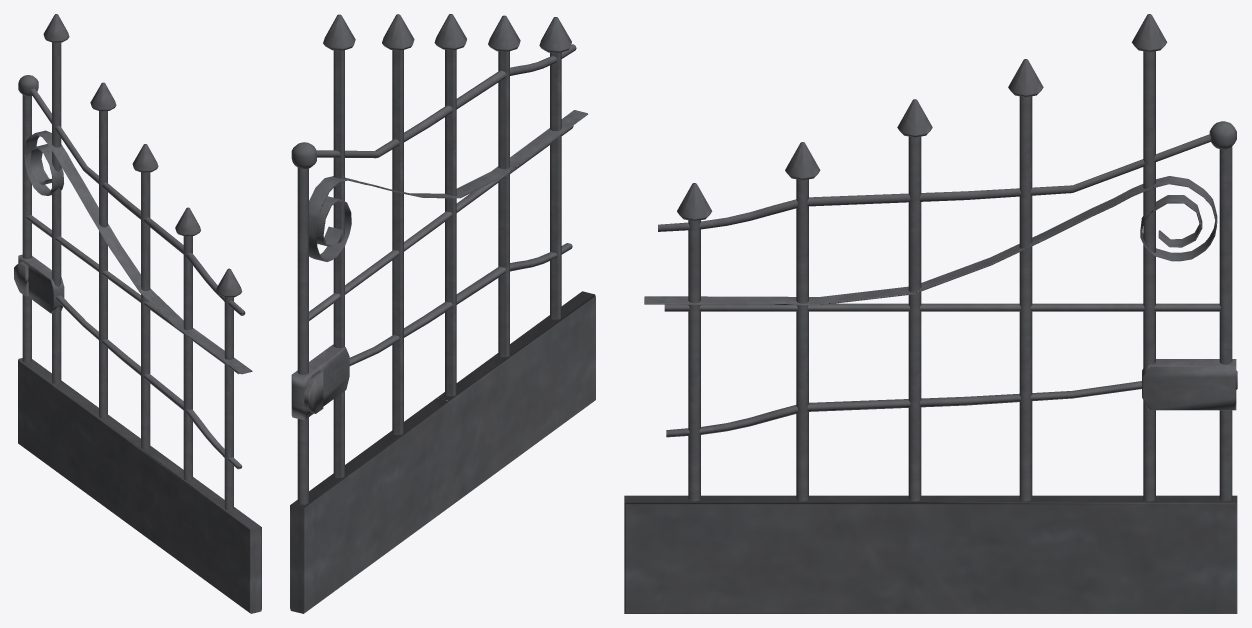
The model's file is Gates_Right.fbx.
3 views of the same model, side by side, from view 1: azimuth 30°, elevation 25°; view 2: azimuth 150°, elevation 25°; view 3: azimuth 270°, elevation 25° (orthographic). The views are drawn at different scales.
Visible parts, largest first — view 1: Gates_Right; view 2: Gates_Right; view 3: Gates_Right.
Part boxes in pixels (<box>): Gates_Right: <box>14,14,261,613</box>; Gates_Right: <box>290,14,595,613</box>; Gates_Right: <box>624,14,1237,613</box>.
Bounding box in the file's own units: 18.74 × 346 × 322.
